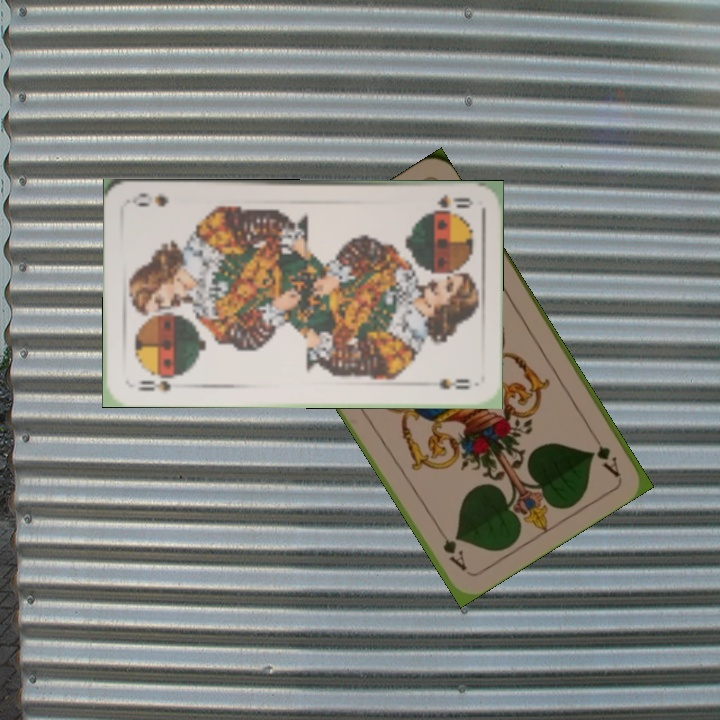GA: (585, 425, 622, 479)
SO: (433, 190, 476, 211), (134, 377, 173, 394)
